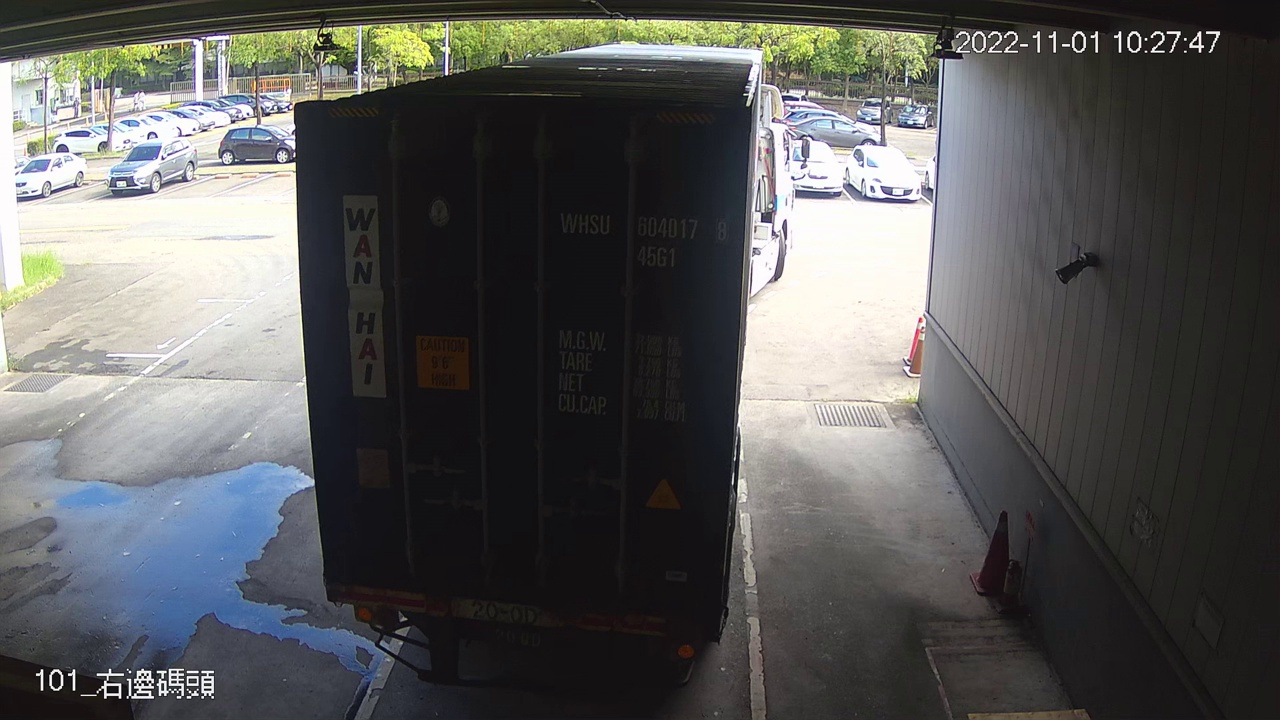container: (551, 199, 736, 274)
